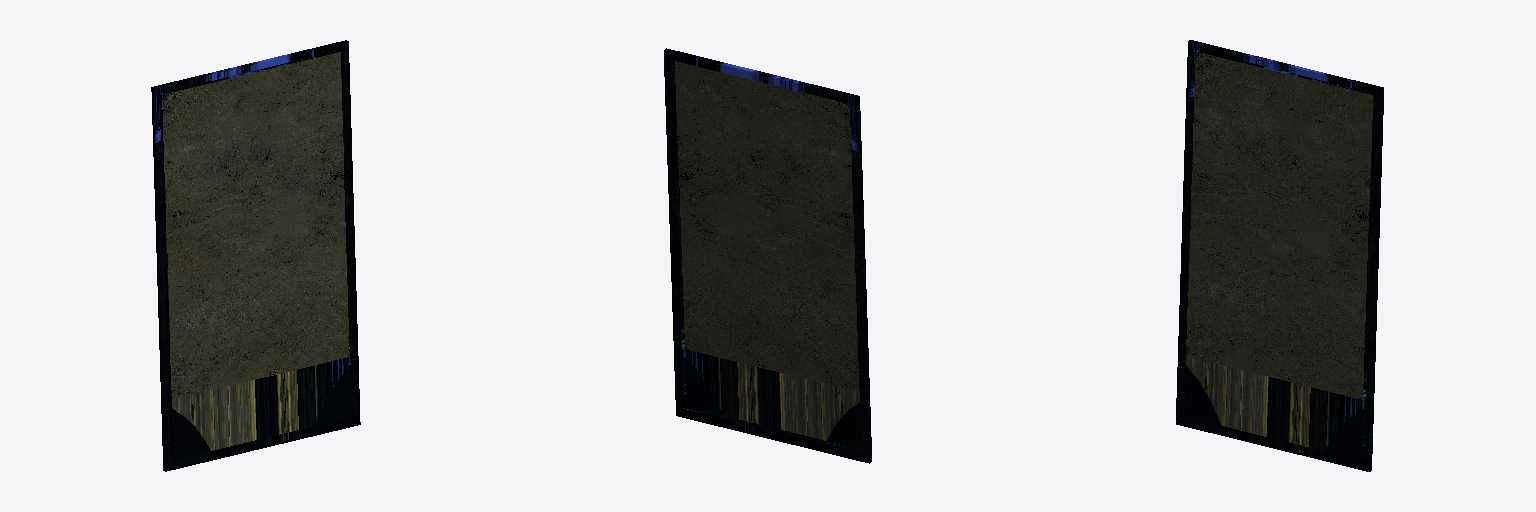
3 renders of one model, left to right at view 1: azimuth 30°, elevation 25°; view 2: azimuth 150°, elevation 25°; view 3: azimuth 330°, elevation 25°, orthographic.
Visible parts, largest first — view 1: Plane.002; view 2: Plane.002; view 3: Plane.002.
Part boxes in pixels (bbox=[...]): Plane.002: bbox=[151, 40, 360, 471]; Plane.002: bbox=[664, 48, 871, 463]; Plane.002: bbox=[1176, 40, 1383, 471].
Size of the model in its own units: 0.4498 by 0.8272 by 0.0599.
1 materials, 1 textured.